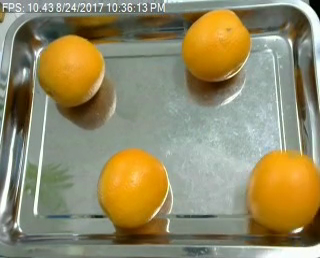Orange: (247, 150, 320, 230), (97, 147, 169, 227), (180, 10, 251, 82), (37, 35, 105, 106)
